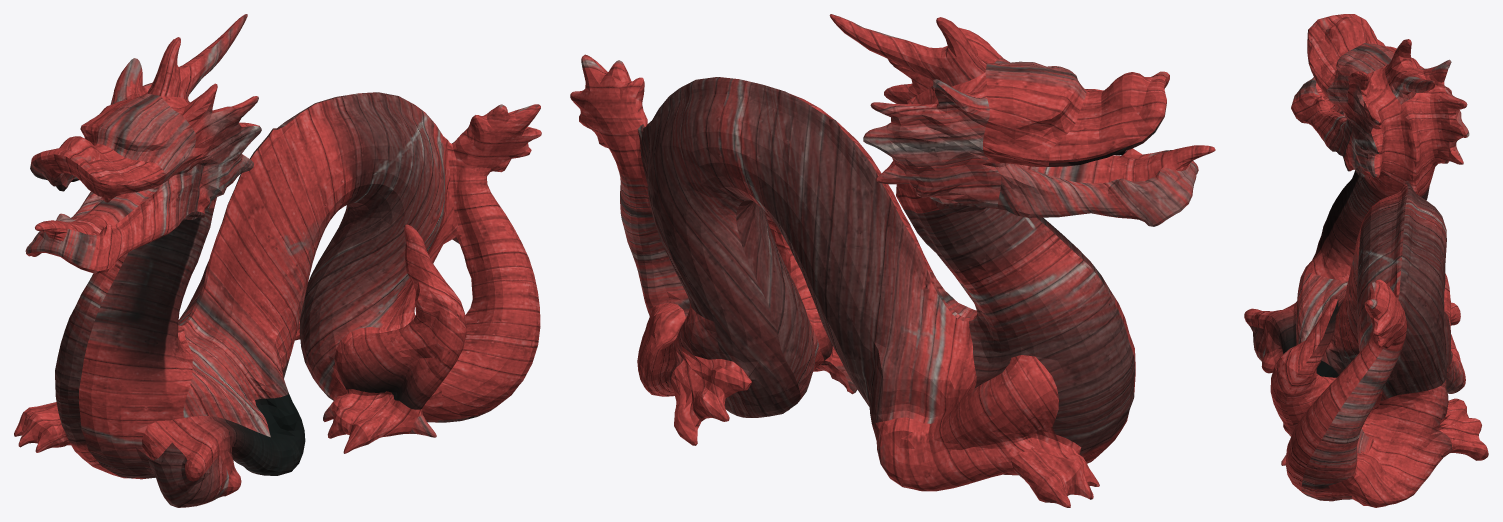
Rendered from dragon.obj.
The picture shows the model from 3 angles, left to right: view 1: azimuth 30°, elevation 25°; view 2: azimuth 150°, elevation 25°; view 3: azimuth 270°, elevation 25°; orthographic projection. The views are drawn at different scales.
Visible parts, largest first — view 1: defaultMaterial; view 2: defaultMaterial; view 3: defaultMaterial.
Part boxes in pixels (x1,y1,x2,y2): defaultMaterial: (14,14,541,507); defaultMaterial: (570,14,1215,507); defaultMaterial: (1244,14,1488,507).
Size of the model in its own units: 142 by 99.61 by 63.21.
